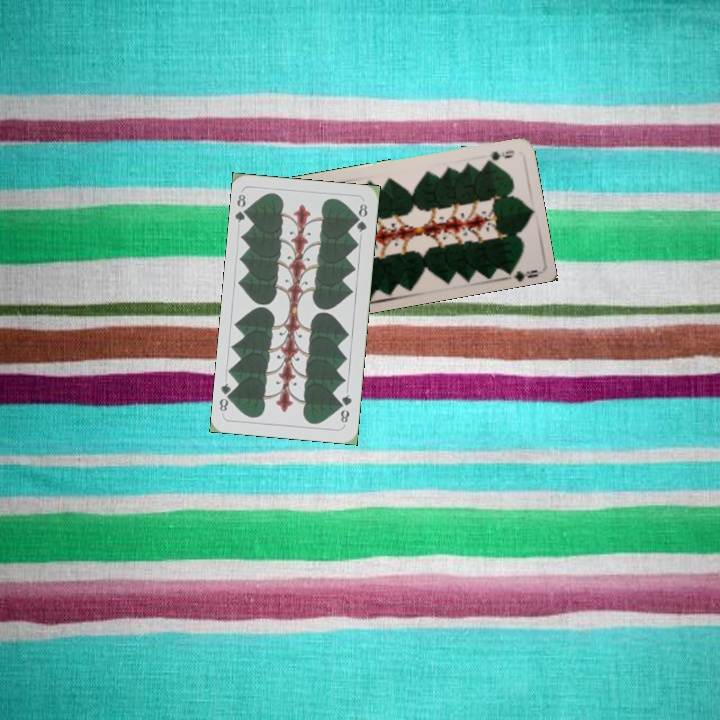G8: (231, 190, 252, 225), (336, 390, 354, 426)
G9: (479, 146, 517, 166)
